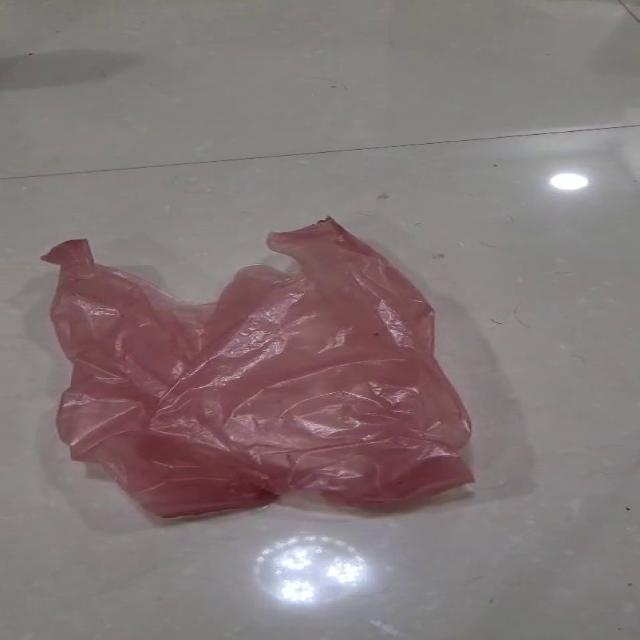plastic: (40, 214, 475, 518)
